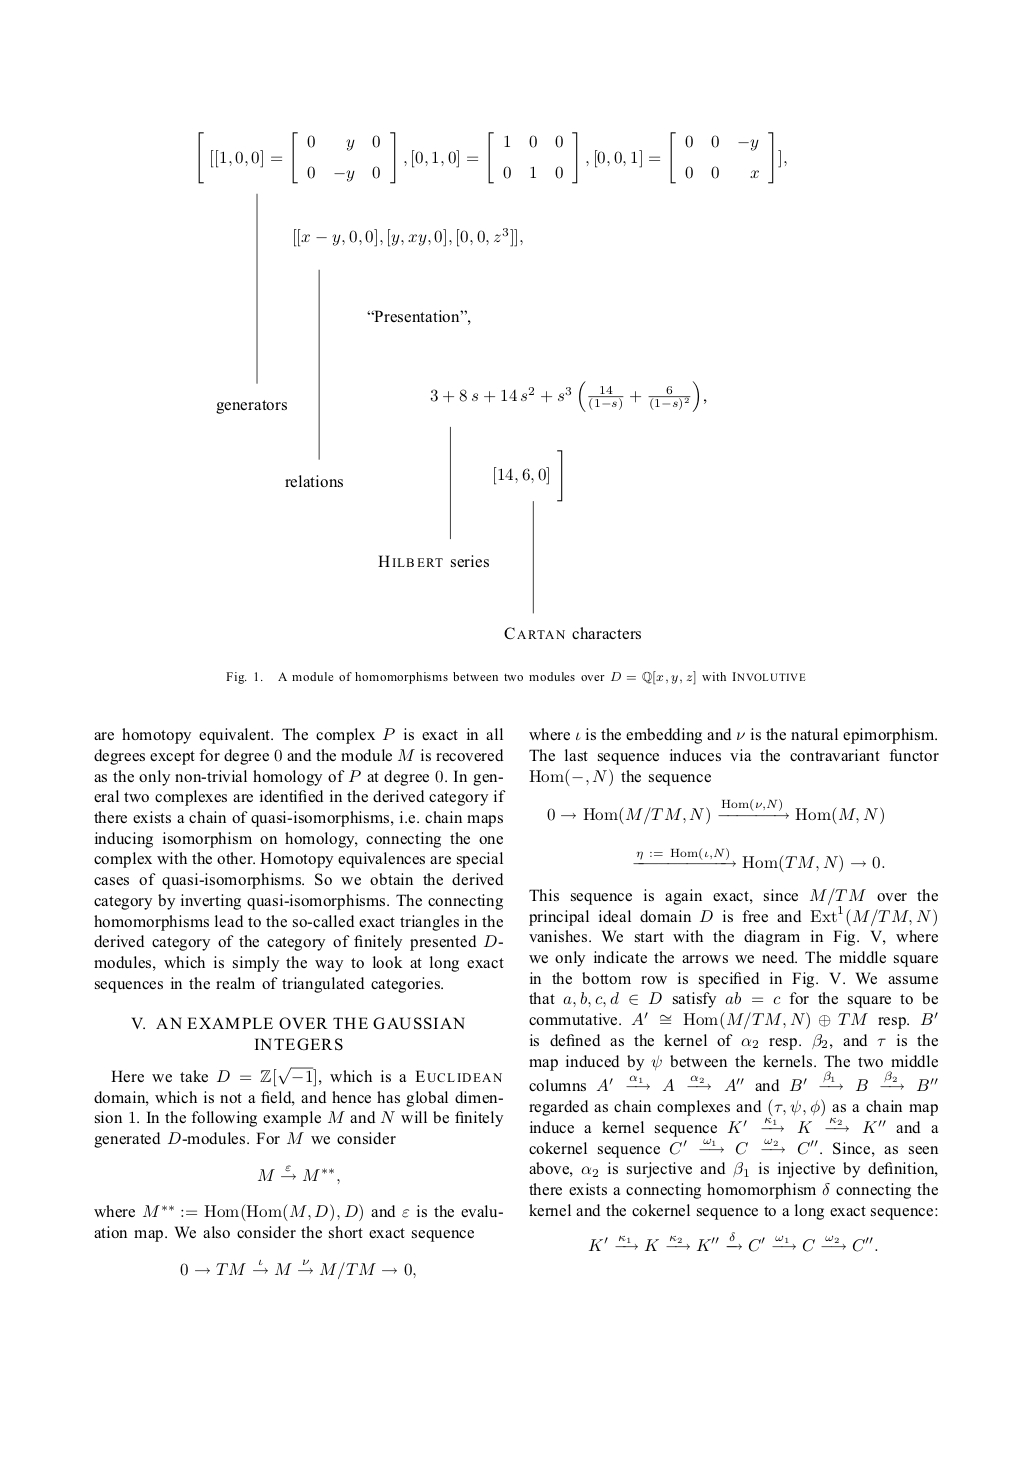figure: (216, 193, 706, 639)
formula: (197, 131, 786, 184), (547, 798, 883, 825), (633, 847, 884, 873), (588, 1231, 877, 1252), (180, 1258, 415, 1281), (257, 1165, 339, 1181)
